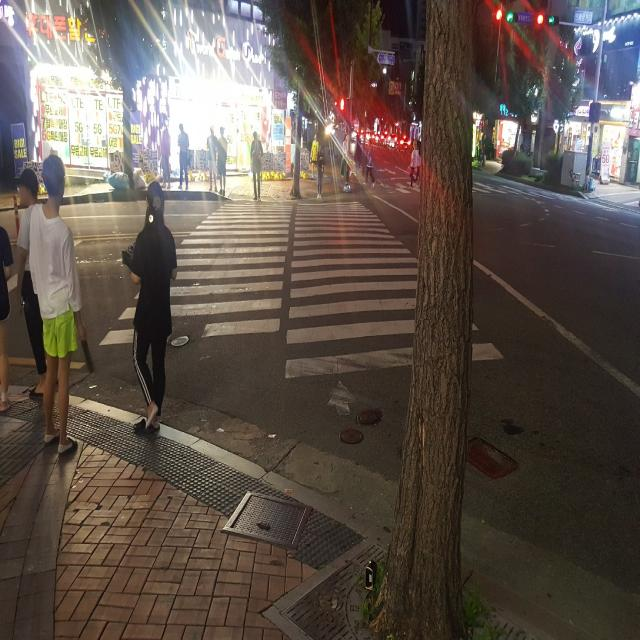횡단보도: (95, 201, 508, 420)
